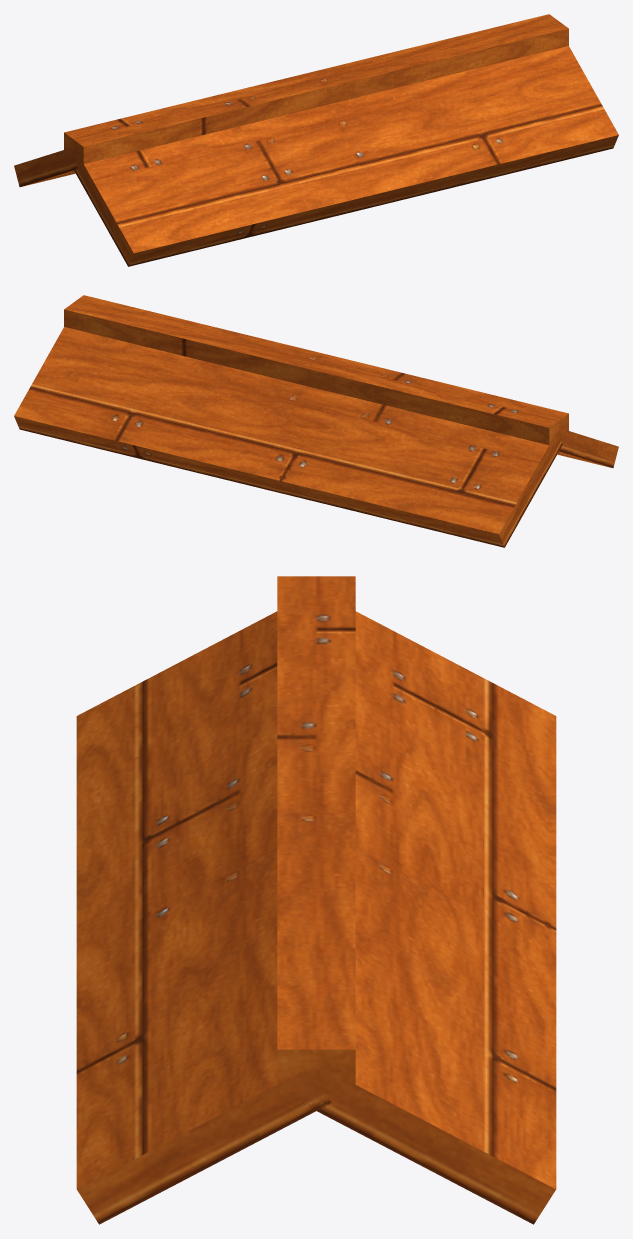
Rendered from Roof_Ridge_1m.fbx.
3 views of the same model, one above another, from view 1: azimuth 30°, elevation 25°; view 2: azimuth 150°, elevation 25°; view 3: azimuth 270°, elevation 25° (orthographic). The views are drawn at different scales.
Visible parts, largest first — view 1: Roof_Ridge_1m; view 2: Roof_Ridge_1m; view 3: Roof_Ridge_1m.
Part boxes in pixels (x1=…): Roof_Ridge_1m: x1=14, y1=14, x2=618, y2=266; Roof_Ridge_1m: x1=14, y1=295, x2=618, y2=547; Roof_Ridge_1m: x1=76, y1=576, x2=556, y2=1224.
Bounding box in the file's own units: 1 × 0.1723 × 0.4278.
